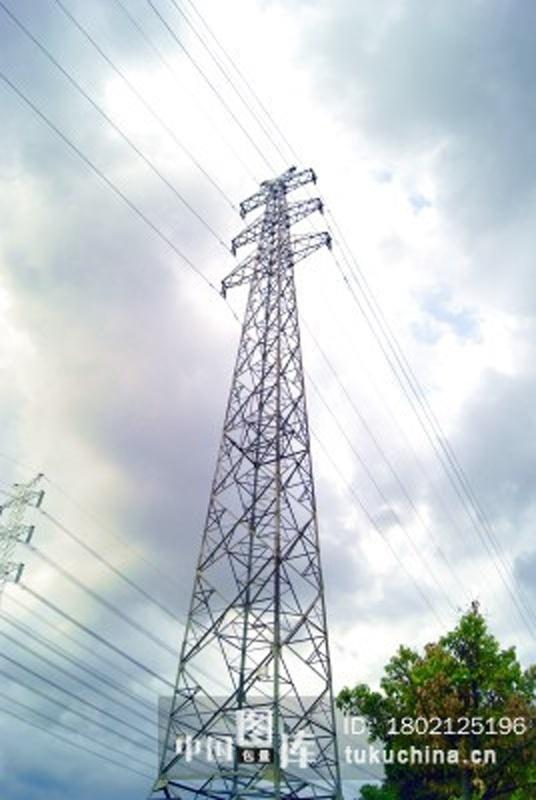power_tower: (189, 191, 364, 795)
